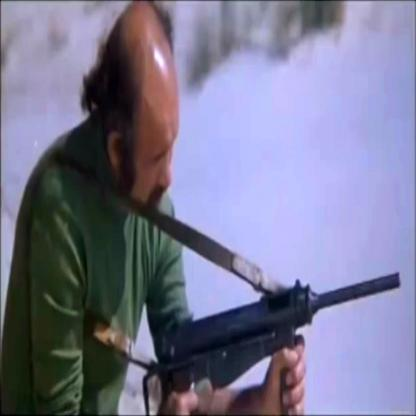gun: (129, 260, 409, 394)
